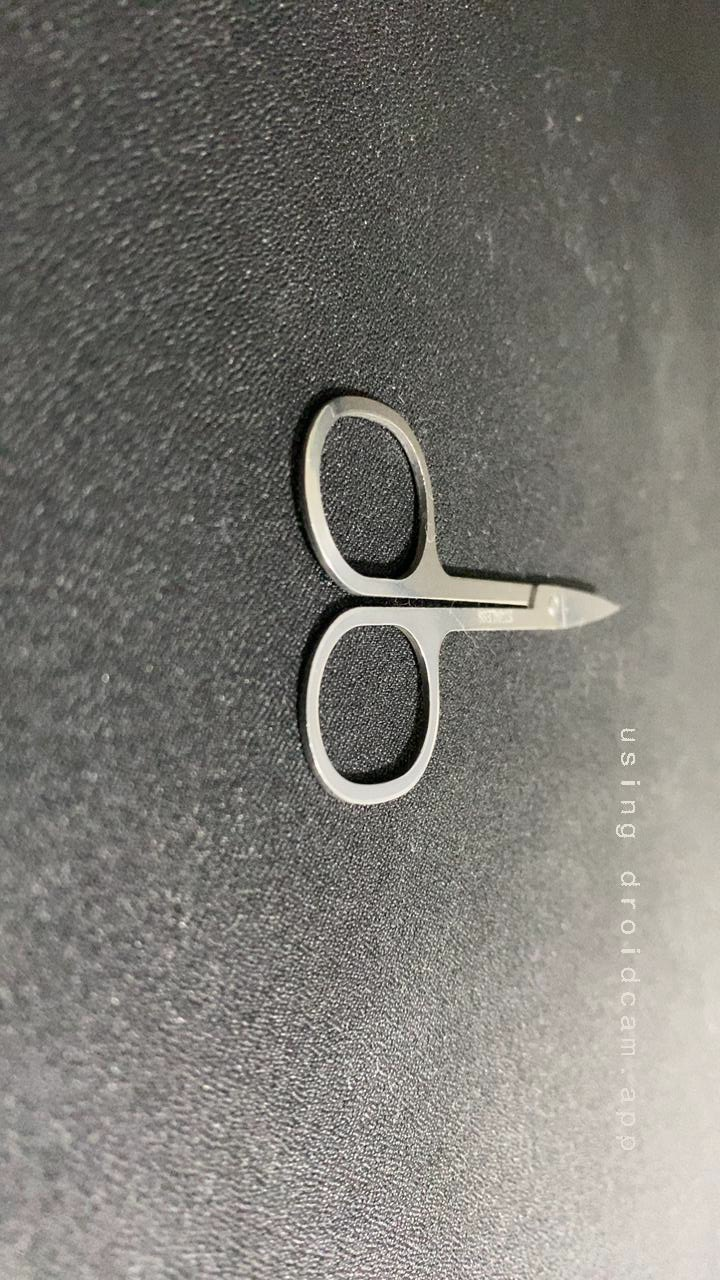scissor: (157, 368, 606, 815)
